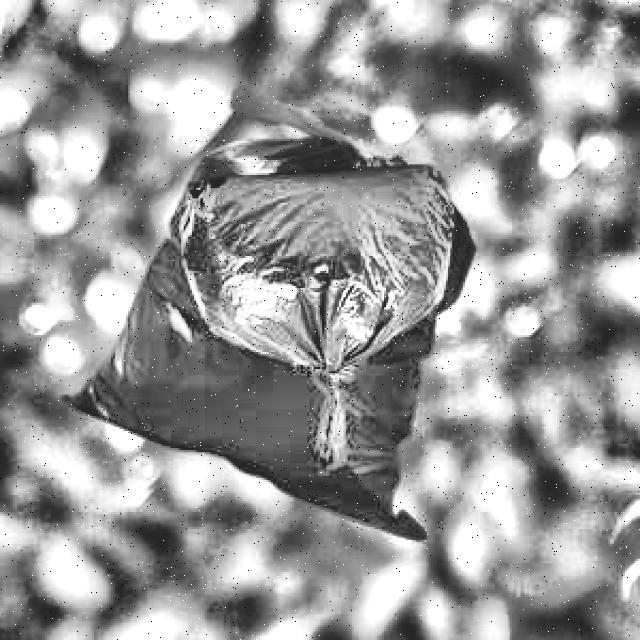Trashbag: (157, 156, 461, 484)
